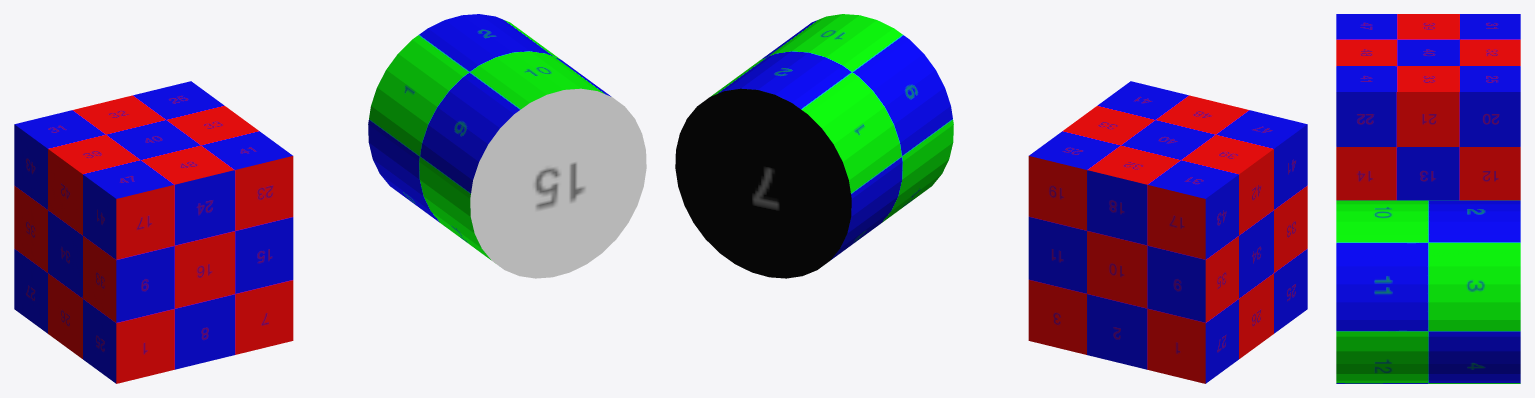
The picture shows the model from 3 angles, left to right: view 1: azimuth 30°, elevation 25°; view 2: azimuth 150°, elevation 25°; view 3: azimuth 270°, elevation 25°; orthographic projection. The views are drawn at different scales.
Visible parts, largest first — view 1: Cube, Cylinder; view 2: Cube, Cylinder; view 3: Cube, Cylinder.
Part boxes in pixels (x1,y1,x2,y2): Cube: [14, 81, 293, 383]; Cylinder: [368, 14, 646, 278]; Cube: [1028, 81, 1307, 383]; Cylinder: [675, 14, 953, 278]; Cube: [1336, 14, 1520, 200]; Cylinder: [1336, 200, 1520, 383].
Bounding box in the file's own units: 3 × 1 × 1.
